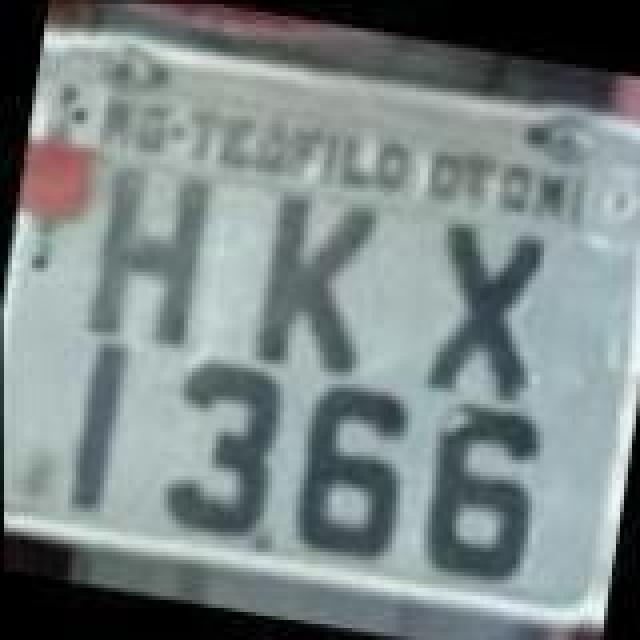1: (60, 336, 136, 516)
3: (156, 346, 288, 538)
6: (286, 372, 422, 564), (416, 402, 548, 586)
H: (84, 158, 216, 350)
K: (252, 190, 384, 378)
X: (414, 208, 550, 396)
